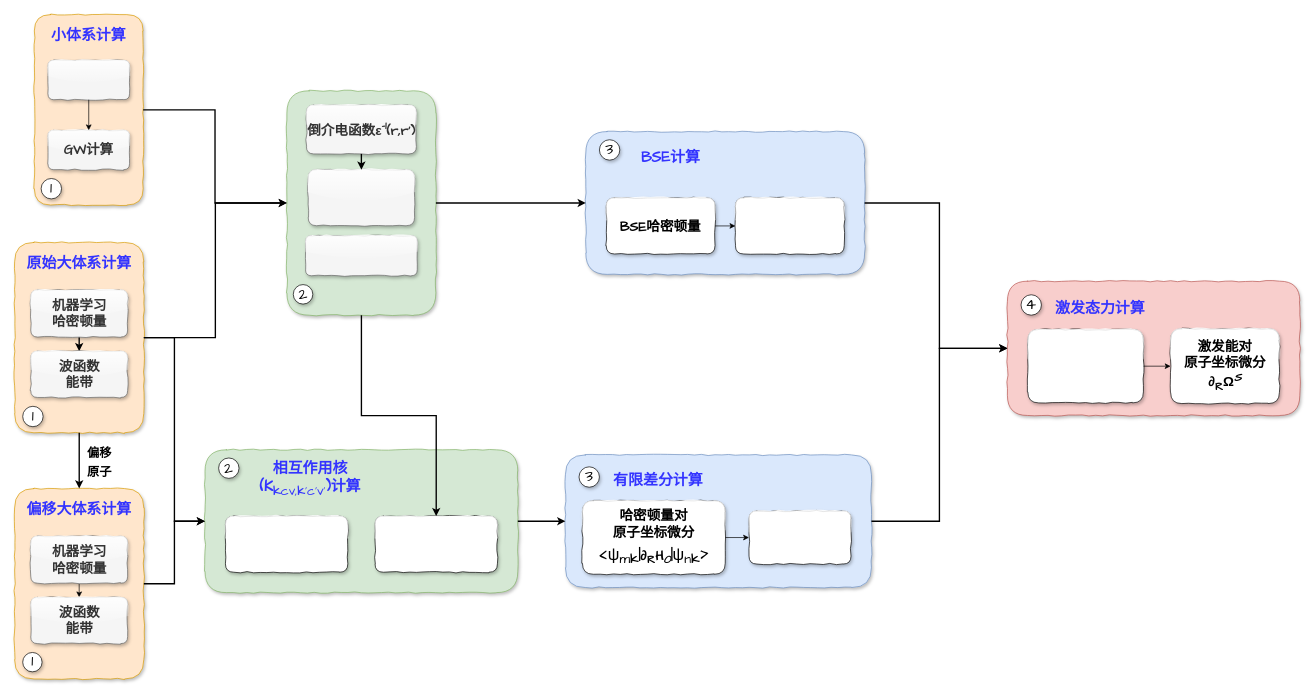
This 1316x696 diagram has some shape labels left out. The centre of each missing label's shape, as x and y in pixels:
"RPA计算" goes at point (89, 80).
"交换项贡献 V k cv, k 'c'v' (K x )" goes at point (287, 545).
"准粒子带隙修正" goes at point (361, 256).
"屏蔽库仑相互 作用W(r,r')" goes at point (362, 198).
"激子波函数 A S k cv" goes at point (790, 226).
"直接项贡献 W k cv, k 'c'v' (K d )" goes at point (437, 545).
"相互作用核对 原子坐标微分 ∂ R K k cv, k 'c'v'" goes at point (1086, 367).
"非绝热耦合 d mn k" goes at point (800, 538).
